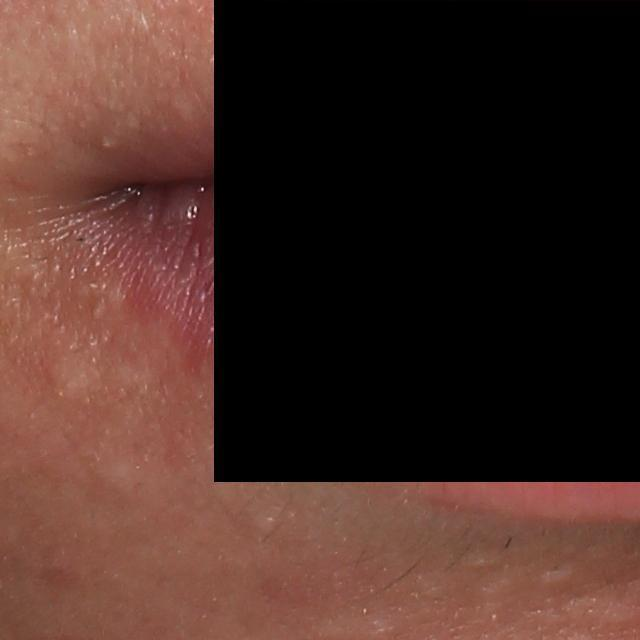comedo: (250, 511, 288, 539)
hypertrophic_scar: (81, 439, 148, 507), (47, 347, 109, 411), (467, 573, 521, 601), (537, 560, 582, 586), (455, 552, 507, 573)
